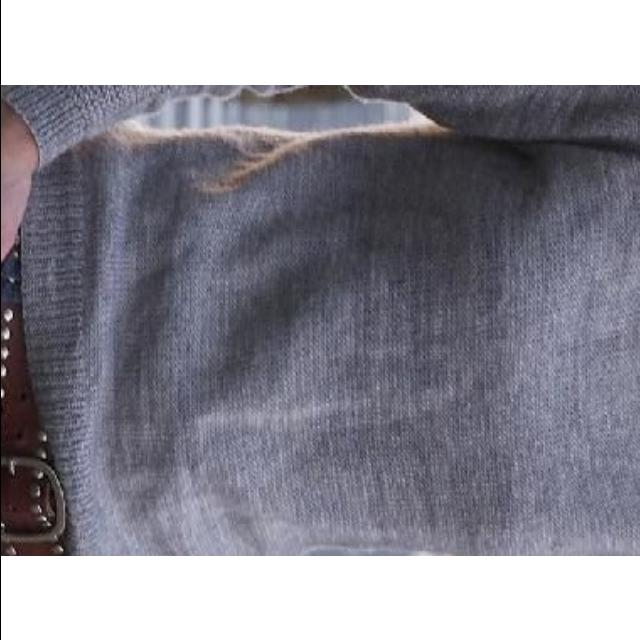linen: (21, 84, 640, 556)
